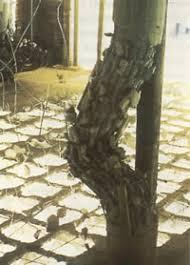spalling: (62, 37, 157, 236)
